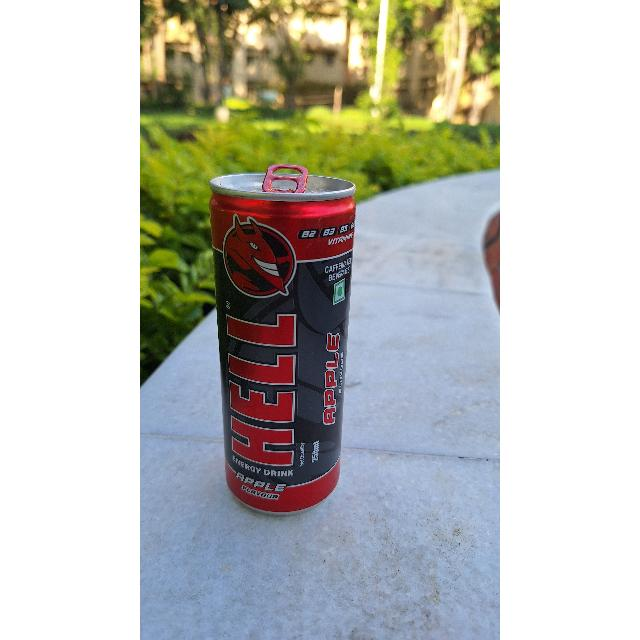Hell Apple: (208, 165, 348, 522)
